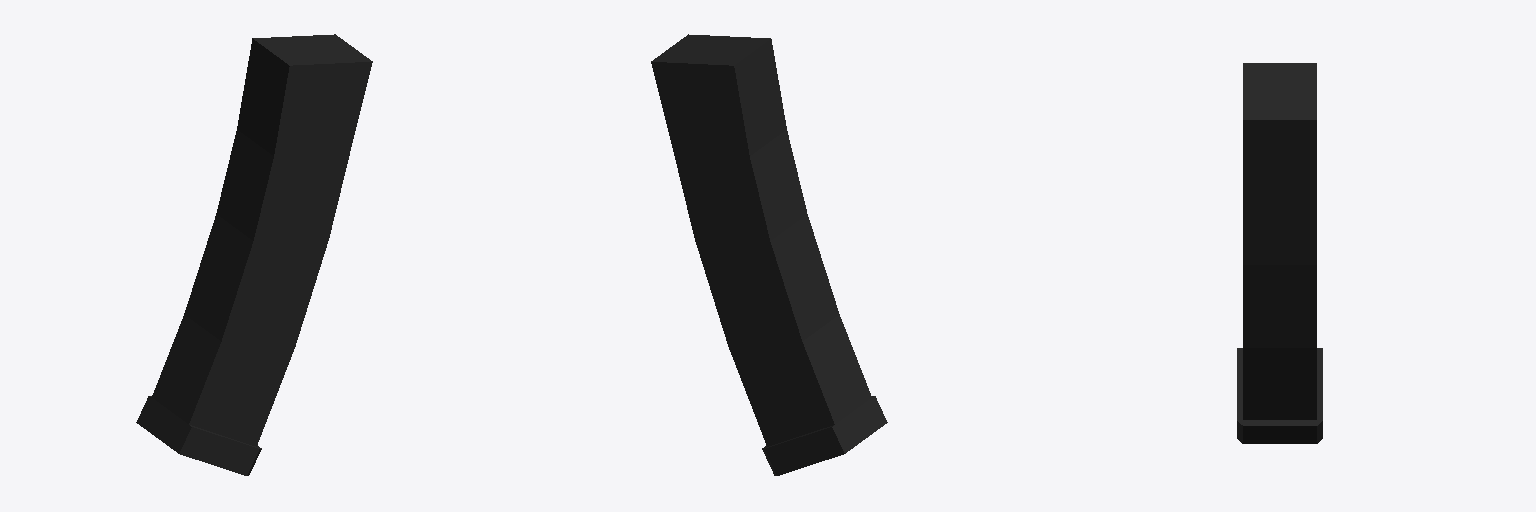
File: mpx_mag.obj
3 renders of one model, left to right at view 1: azimuth 30°, elevation 25°; view 2: azimuth 150°, elevation 25°; view 3: azimuth 270°, elevation 25°, orthographic.
Parts seen in each view (by area): view 1: Cube.001; view 2: Cube.001; view 3: Cube.001.
Part boxes in pixels (x1,y1,x2,y2): Cube.001: (136,34,372,475); Cube.001: (651,34,887,475); Cube.001: (1237,63,1322,443).
Bounding box in the file's own units: 4.65 × 9.05 × 1.76.